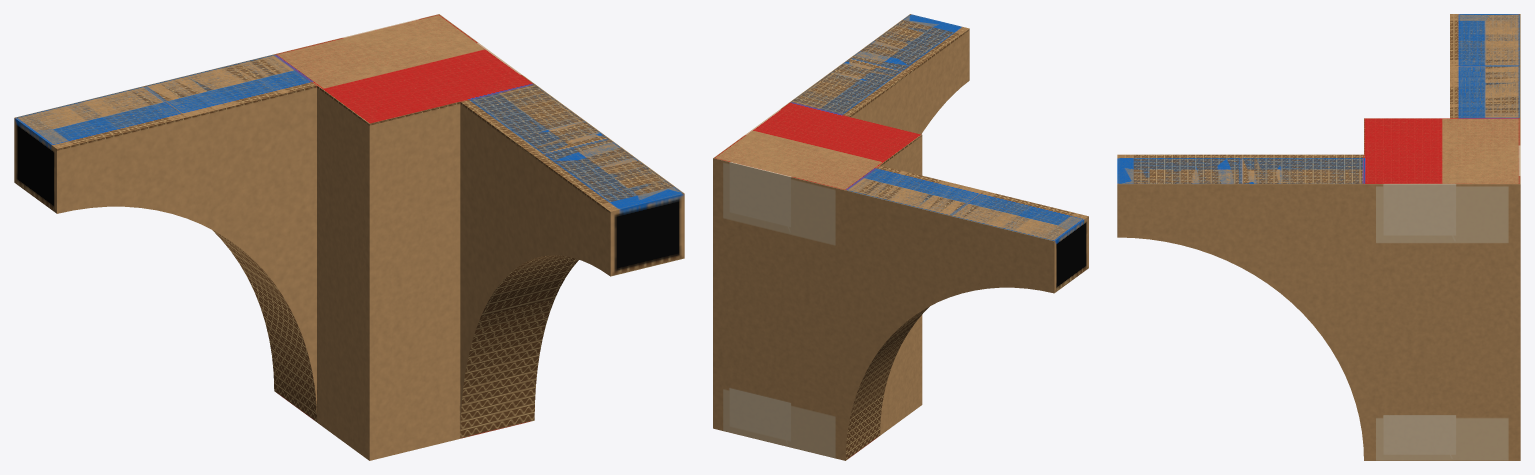
Rendered from 16-arches-back-right.fbx.
3 renders of one model, left to right at view 1: azimuth 30°, elevation 25°; view 2: azimuth 150°, elevation 25°; view 3: azimuth 270°, elevation 25°, orthographic. The views are drawn at different scales.
Visible parts, largest first — view 1: arches-back-right; view 2: arches-back-right; view 3: arches-back-right.
Part boxes in pixels (box(x1,y1,x2,y2)): arches-back-right: box(14, 14, 684, 460); arches-back-right: box(713, 14, 1088, 460); arches-back-right: box(1117, 14, 1520, 460).
Bounding box in the file's own units: 10300 × 7800 × 10300.
Materials: 1 (1 with a texture image).
